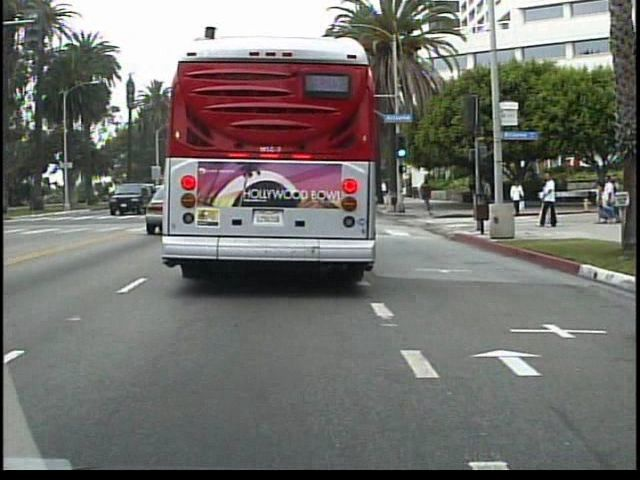person: (540, 168, 561, 227), (479, 172, 497, 215), (420, 177, 437, 217), (510, 178, 528, 206)
